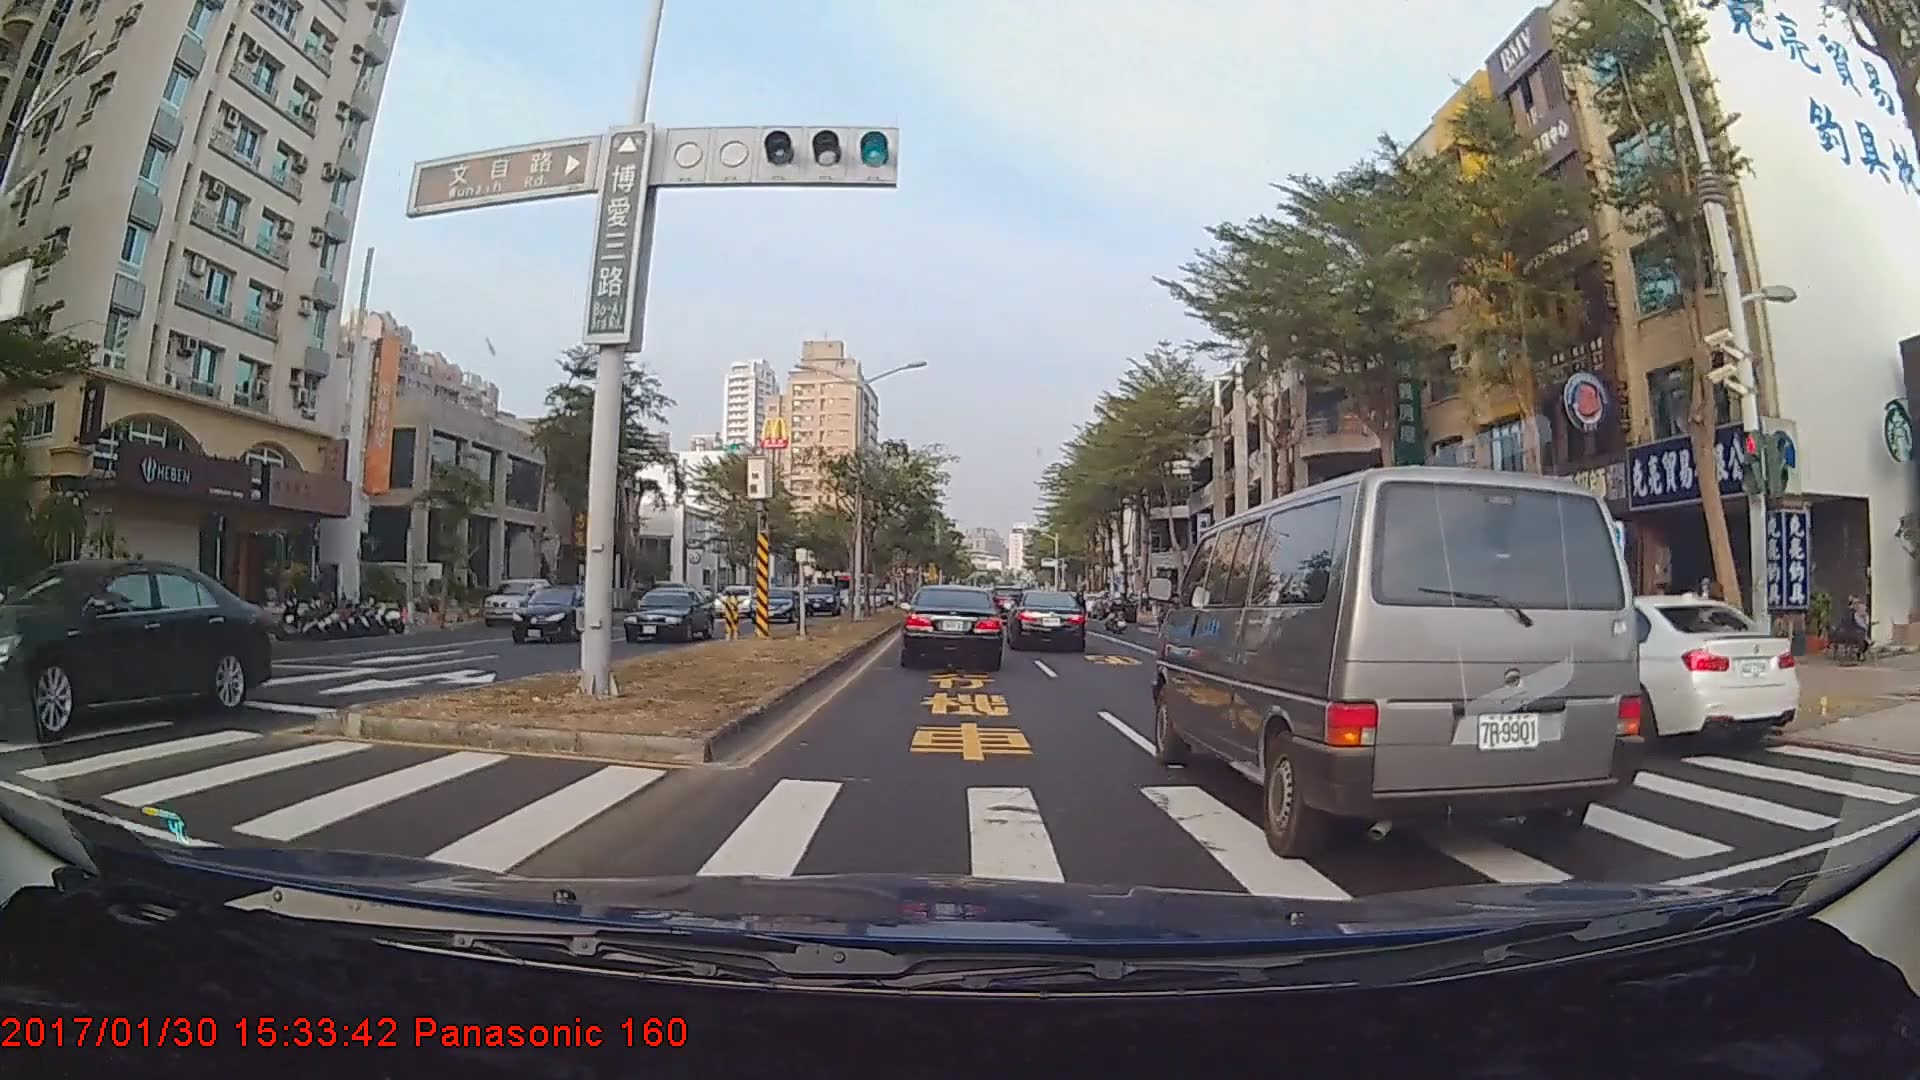vehicle: (1154, 458, 1654, 855), (1336, 502, 1633, 721), (0, 556, 269, 745), (901, 585, 1005, 670), (509, 585, 604, 645), (1005, 589, 1087, 651), (621, 585, 712, 641), (481, 578, 555, 626), (749, 587, 800, 622), (799, 580, 841, 613)
